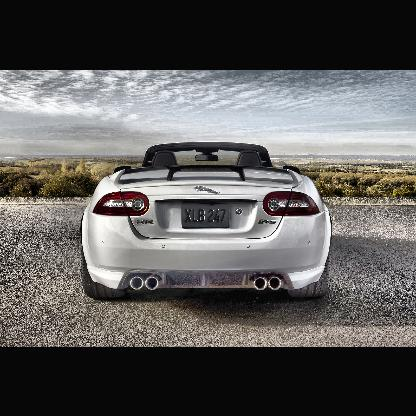Jaguar XK XKR 2012: (81, 143, 333, 302)
